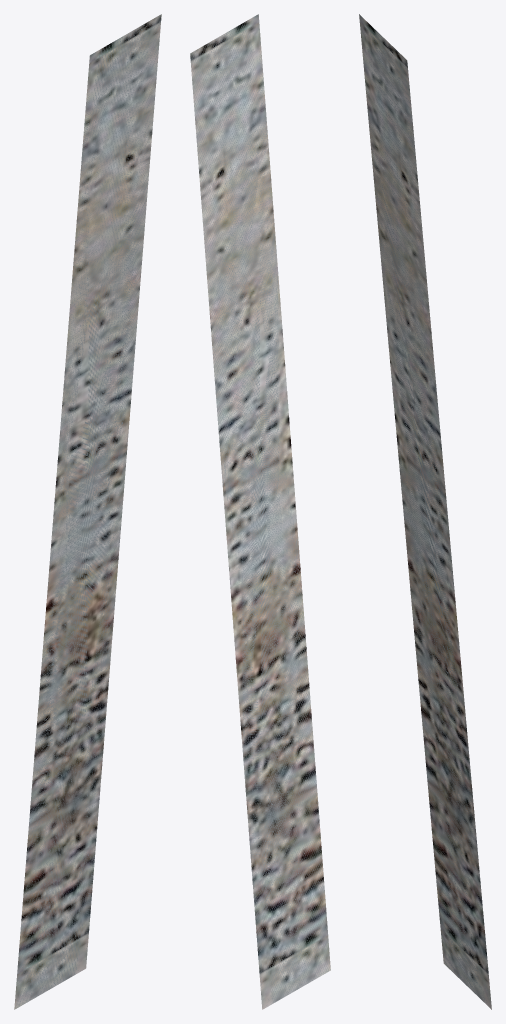
Rendered from 西庸城堡654.dae.
3 renders of one model, left to right at view 1: azimuth 30°, elevation 25°; view 2: azimuth 210°, elevation 25°; view 3: azimuth 270°, elevation 25°, orthographic. The views are drawn at different scales.
Parts seen in each view (by area): view 1: SketchUp; view 2: SketchUp; view 3: SketchUp.
Boxes of the visible parts, x1,y1,x2,y2 form: SketchUp: (14, 14, 161, 1009); SketchUp: (190, 14, 330, 1009); SketchUp: (359, 14, 491, 1009).
Bounding box in the file's own units: 90.73 × 82.05 × 657.
